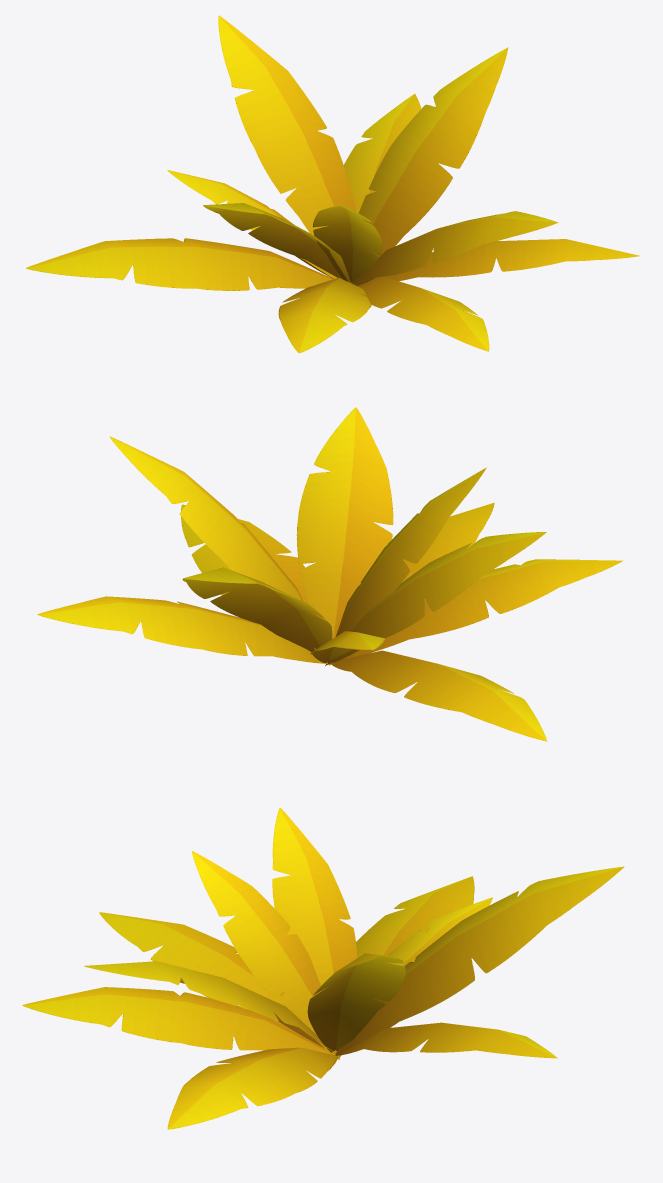
The model's file is Leaf_Tall_Yellow.fbx.
The picture shows the model from 3 angles, top to bottom: view 1: azimuth 30°, elevation 25°; view 2: azimuth 150°, elevation 25°; view 3: azimuth 270°, elevation 25°; orthographic projection. The views are drawn at different scales.
Visible parts, largest first — view 1: Leaf_Tall_Yellow; view 2: Leaf_Tall_Yellow; view 3: Leaf_Tall_Yellow.
Part boxes in pixels (x1,y1,x2,y2): Leaf_Tall_Yellow: (26,15,639,353); Leaf_Tall_Yellow: (37,407,622,741); Leaf_Tall_Yellow: (22,807,624,1129).
Size of the model in its own units: 91.51 by 34.83 by 88.29.
